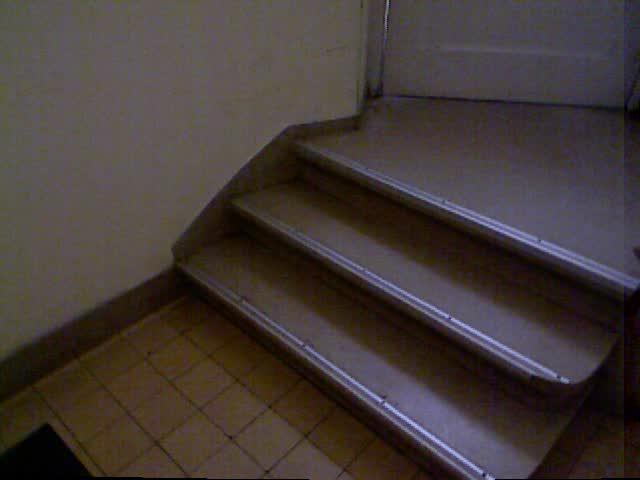Escaleras: (184, 135, 639, 479)
